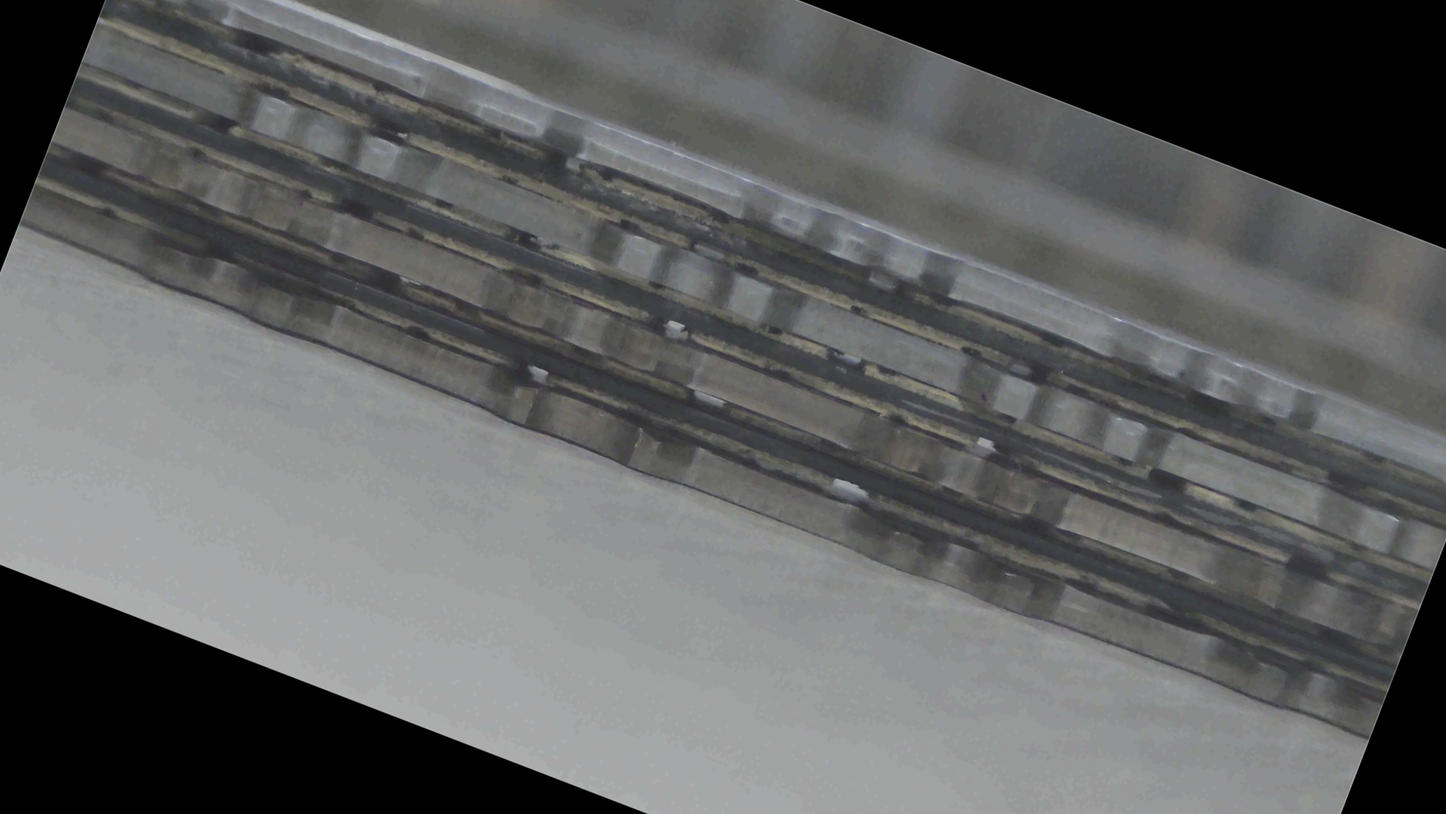Black metal plate: (20, 188, 1380, 735)
shiney metal plate: (0, 33, 1391, 381), (31, 236, 1442, 523), (0, 264, 1441, 318)
spacer: (21, 64, 1371, 608), (6, 294, 1435, 546), (0, 131, 1419, 357)
